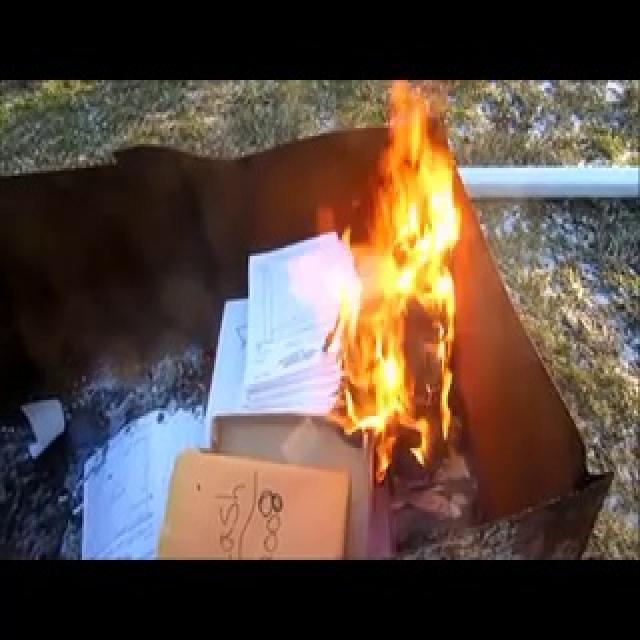fire: (311, 77, 463, 456)
